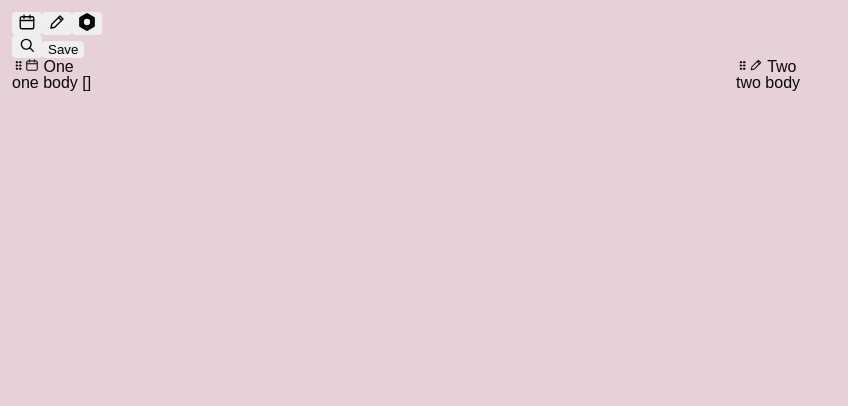
Test: useTabbedLevel › opens the default tiles at Max, side by side on a split grid, and toggles a tile with its tab
Click the button named "Settings": coordinates (87, 24) [72, 12, 102, 35]
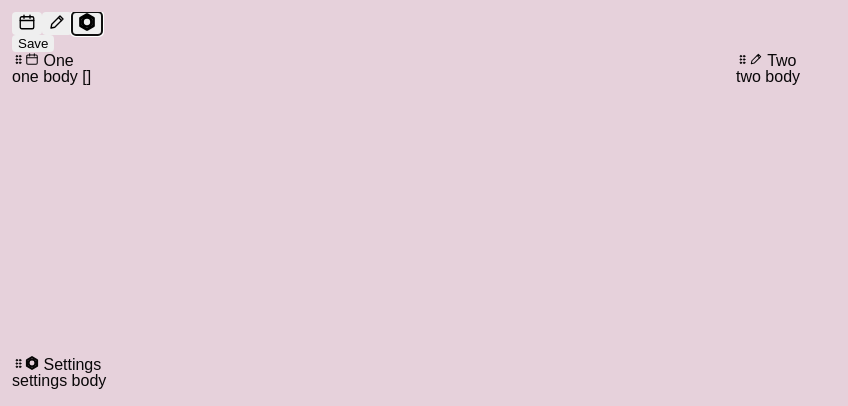
Check: the element "Settings" is shown, box [12, 356, 106, 389]
Click the button named "One": coordinates (27, 24) [12, 12, 42, 35]
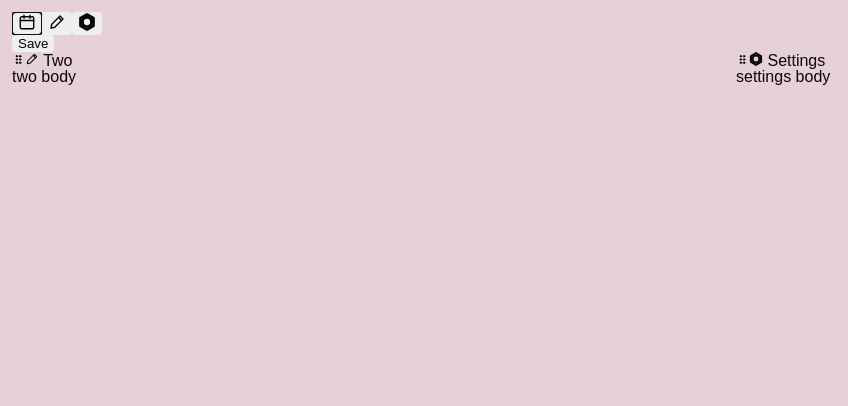
Check: the heading "One" is gone
